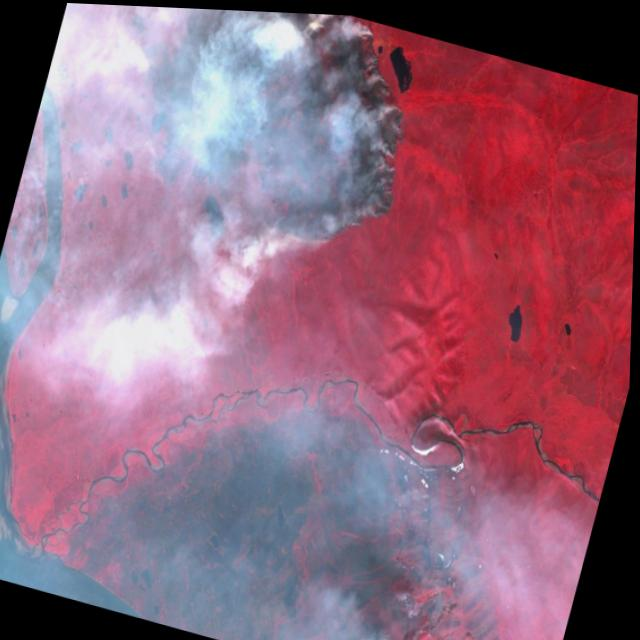fire: (135, 5, 442, 291)
